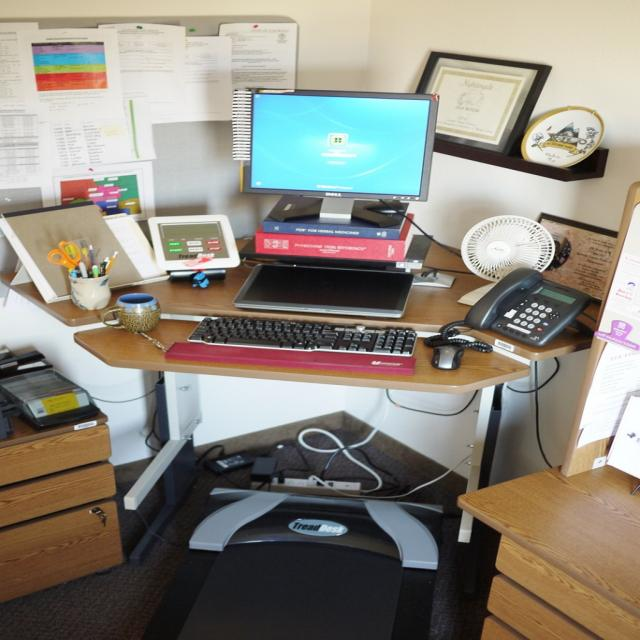desk: (1, 244, 588, 542)
keyboard: (183, 315, 420, 370)
mouse: (431, 344, 466, 370)
tv: (236, 89, 439, 203)
